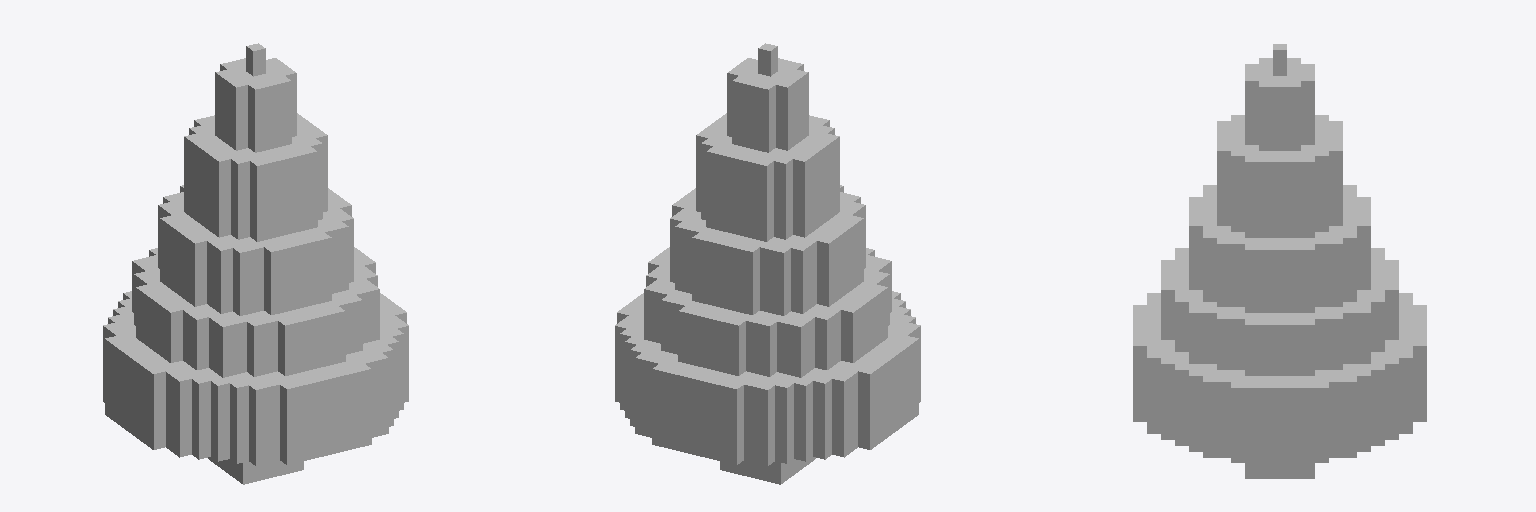
File: tree4.obj
The picture shows the model from 3 angles: view 1: azimuth 30°, elevation 25°; view 2: azimuth 150°, elevation 25°; view 3: azimuth 270°, elevation 25°; orthographic projection.
Parts seen in each view (by area): view 1: object 1; view 2: object 1; view 3: object 1.
Part boxes in pixels (x1,y1,x2,y2): object 1: (103,43,408,484); object 1: (615,43,920,484); object 1: (1133,44,1426,478).
Size of the model in its own units: 2.1 by 3.3 by 2.1.